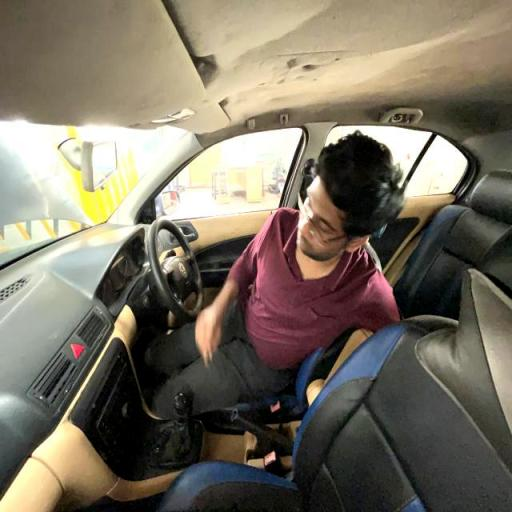Reaching_behind: (191, 134, 407, 372)
